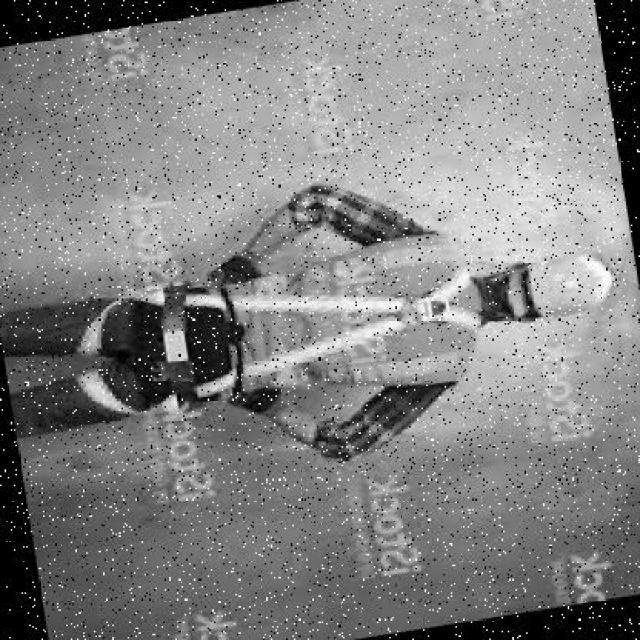Arnes_seguridad: (57, 230, 494, 430)
